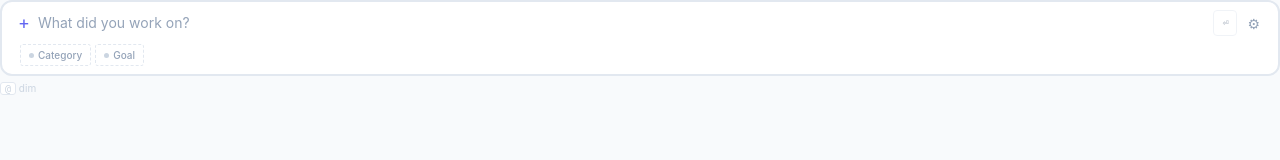
Test case: EntryComposer › shows a duration token parsed from the item text
Type "Code review 1.5h" into the field with placeholder "What did you work on?".
click(622, 23); type("Code review 1.5h")  # box [38,11,1205,35]
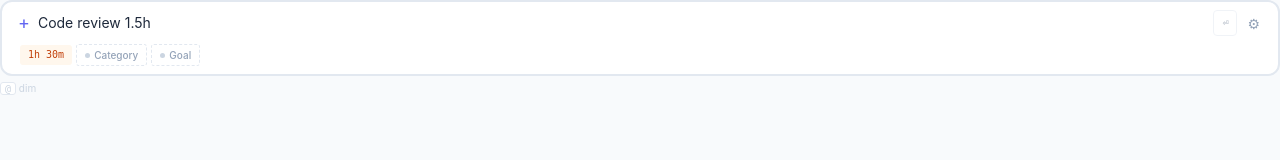
Result: the text with test id "dur-token" reads "1h 30m" at [28,49,64,60]
